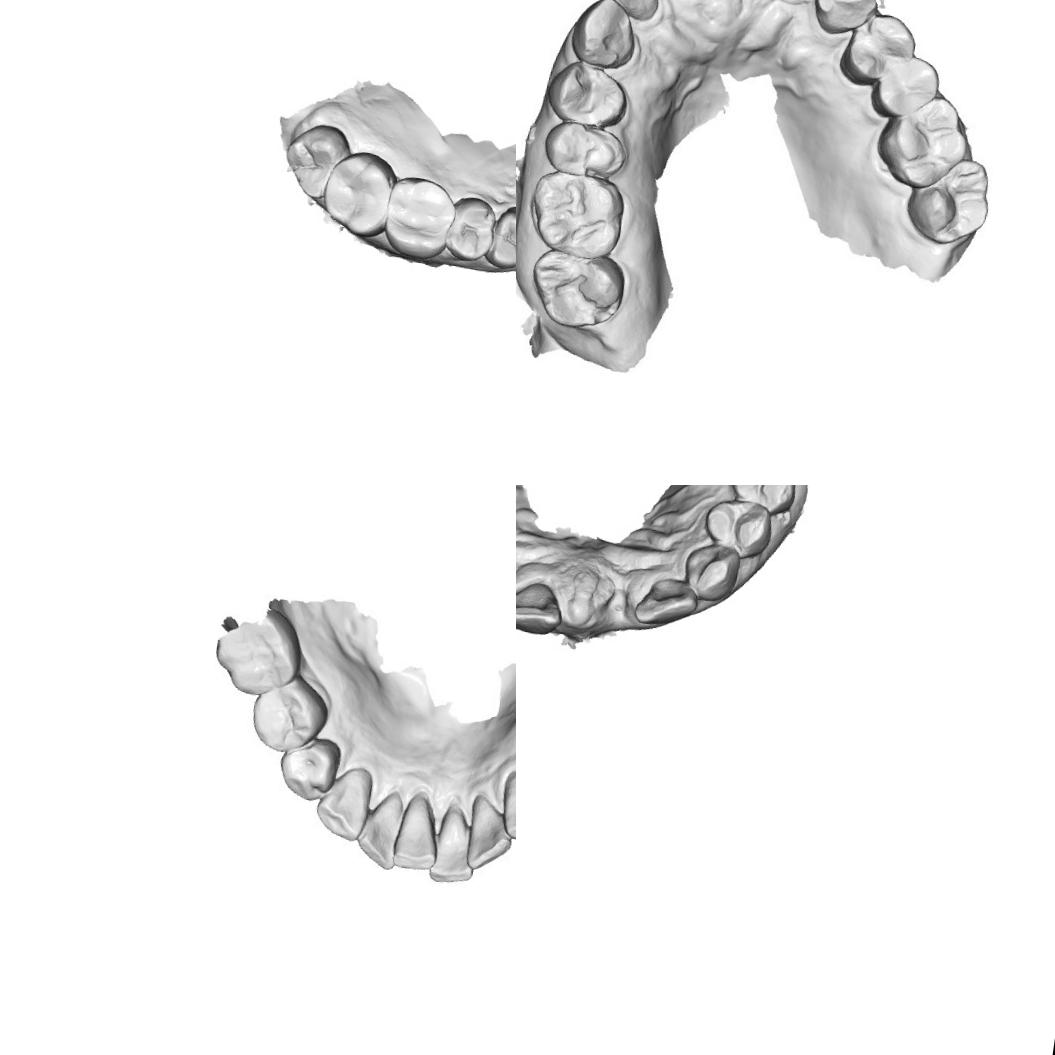canine: (565, 0, 646, 73), (312, 753, 374, 835), (677, 539, 743, 606), (492, 765, 516, 840)
incisor: (357, 779, 417, 869), (390, 786, 450, 875), (428, 802, 482, 887), (630, 572, 704, 634), (458, 792, 516, 869), (516, 575, 568, 639), (602, 0, 667, 23)
molar: (870, 85, 977, 197), (524, 166, 636, 264), (204, 602, 310, 703), (524, 244, 636, 339), (900, 149, 997, 250), (316, 145, 398, 243), (380, 171, 460, 266), (278, 118, 356, 204)
premolar: (833, 6, 923, 94), (542, 52, 636, 132), (536, 113, 634, 184), (246, 674, 328, 758), (866, 45, 945, 126), (700, 492, 782, 562), (276, 730, 344, 802), (443, 192, 498, 266), (807, 0, 878, 40), (482, 202, 516, 275), (720, 485, 800, 515)
